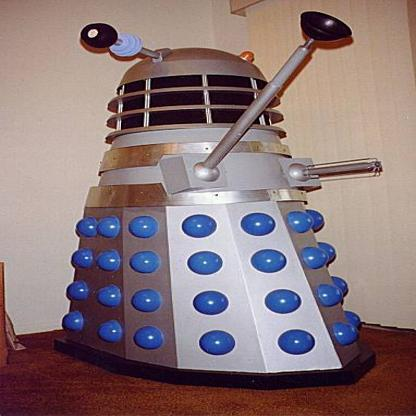dalek: (36, 7, 416, 416)
